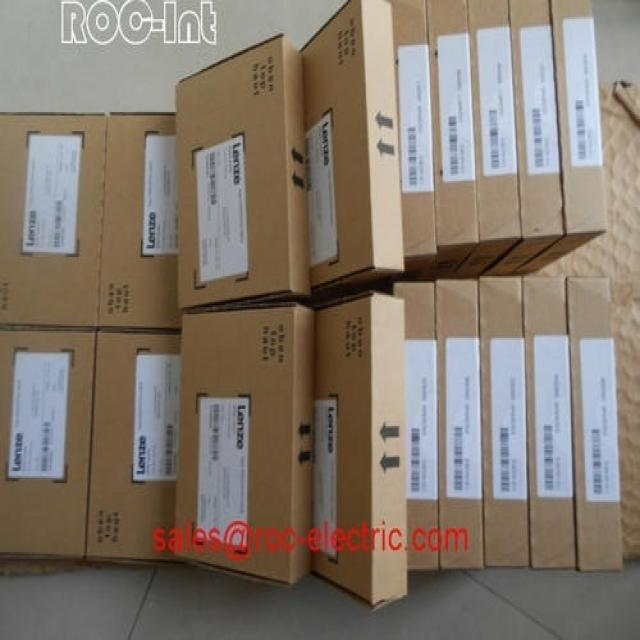box: (173, 302, 314, 588), (175, 33, 312, 311), (311, 290, 406, 612), (517, 0, 609, 274), (0, 112, 109, 328), (483, 0, 566, 274), (0, 326, 96, 561), (87, 331, 179, 562), (97, 112, 182, 329), (566, 279, 625, 573), (521, 278, 576, 569), (479, 276, 531, 568), (428, 0, 479, 279), (435, 279, 484, 569), (393, 283, 438, 571), (392, 0, 438, 279)
